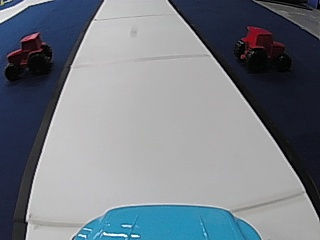tractor: (233, 24, 293, 73), (3, 31, 52, 80)
